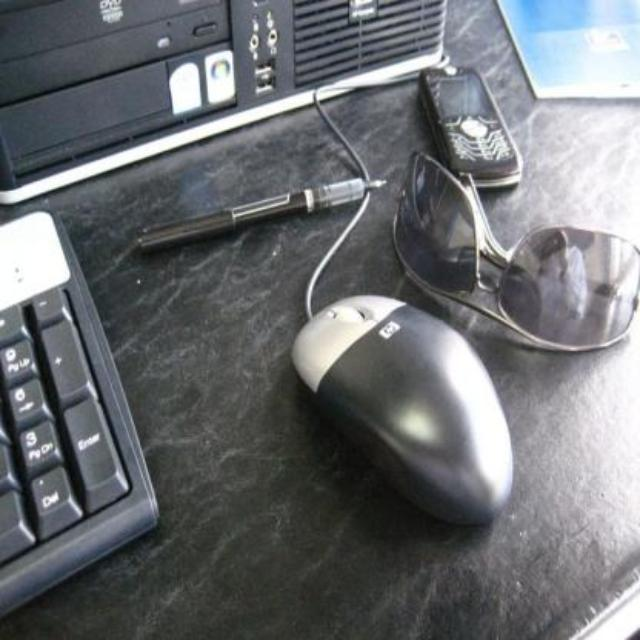Computer-Mouse: (262, 256, 550, 542)
